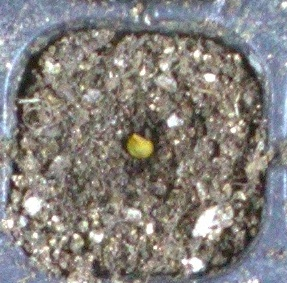chilli seed: (125, 133, 154, 159)
